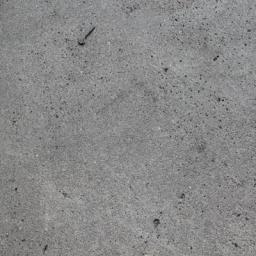FOD: (77, 26, 99, 48)
